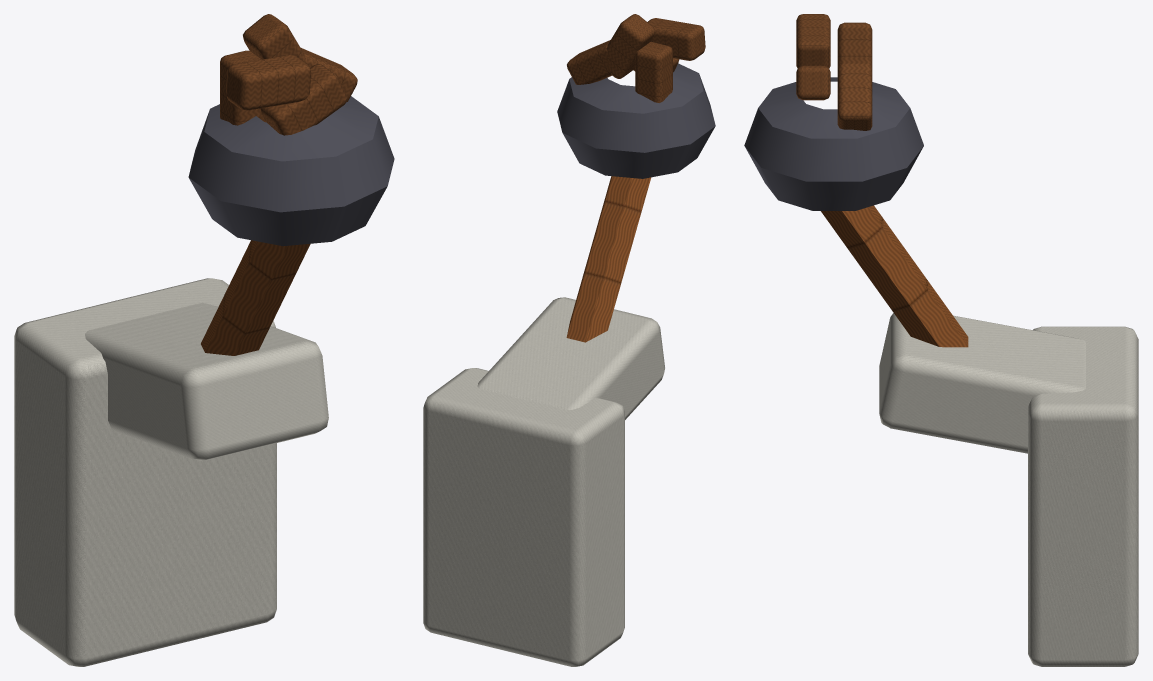
File: jungle-temple-and-stone-city-wall-torch-1b6cffc8__36156.glb
3 renders of one model, left to right at view 1: azimuth 30°, elevation 25°; view 2: azimuth 150°, elevation 25°; view 3: azimuth 270°, elevation 25°, orthographic. The views are drawn at different scales.
Parts seen in each view (by area): view 1: wall-torch; view 2: wall-torch; view 3: wall-torch.
Part boxes in pixels (<box>): wall-torch: <box>14,14,394,666</box>; wall-torch: <box>423,14,715,666</box>; wall-torch: <box>744,14,1138,666</box>.
Size of the model in its own units: 0.3 by 0.9619 by 0.57.
4 materials, 3 textured.
